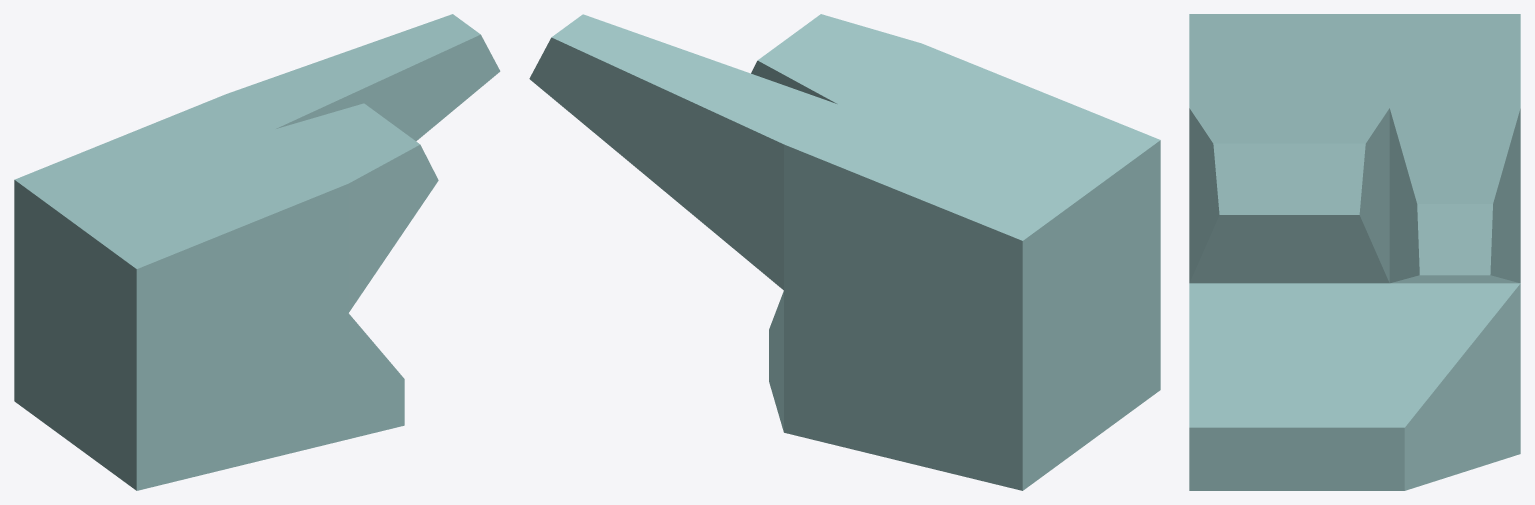
Rendered from x_kray_obriv_blue_10_1_mirror.fbx.
3 renders of one model, left to right at view 1: azimuth 30°, elevation 25°; view 2: azimuth 150°, elevation 25°; view 3: azimuth 270°, elevation 25°, orthographic. The views are drawn at different scales.
Parts seen in each view (by area): view 1: x_kray_obriv_blue_10_1_mirror1; view 2: x_kray_obriv_blue_10_1_mirror1; view 3: x_kray_obriv_blue_10_1_mirror1.
Boxes of the visible parts, bbox=[...] form: x_kray_obriv_blue_10_1_mirror1: bbox=[14, 14, 500, 490]; x_kray_obriv_blue_10_1_mirror1: bbox=[529, 14, 1160, 490]; x_kray_obriv_blue_10_1_mirror1: bbox=[1189, 14, 1520, 490].
Bounding box in the file's own units: 2.12 × 1.31 × 1.
